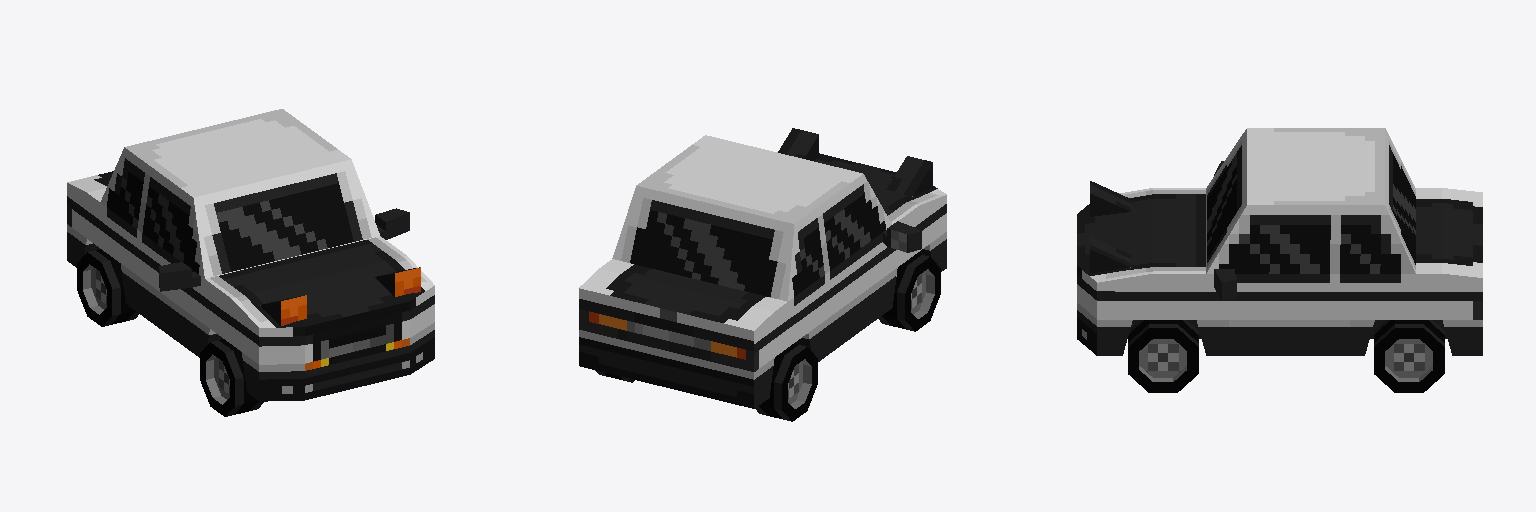
3 views of the same model, side by side, from view 1: azimuth 30°, elevation 25°; view 2: azimuth 150°, elevation 25°; view 3: azimuth 270°, elevation 25° (orthographic).
Parts seen in each view (by area): view 1: body, cylinder, mirror_right, headlight_left, headlight_right, mirror_left; view 2: body, cylinder, headlight_left, headlight_right, mirror_right; view 3: body, cylinder, headlight_right, headlight_left, mirror_left.
Boxes of the visible parts, x1=… form: body: x1=67, y1=109, x2=434, y2=401; cylinder: x1=77, y1=249, x2=263, y2=416; mirror_right: x1=159, y1=262, x2=200, y2=291; headlight_left: x1=260, y1=295, x2=306, y2=325; headlight_right: x1=375, y1=267, x2=420, y2=296; mirror_left: x1=375, y1=208, x2=409, y2=239; body: x1=579, y1=135, x2=946, y2=408; cylinder: x1=595, y1=254, x2=940, y2=421; headlight_left: x1=886, y1=156, x2=932, y2=196; headlight_right: x1=778, y1=128, x2=818, y2=160; mirror_right: x1=883, y1=221, x2=921, y2=252; body: x1=1077, y1=128, x2=1482, y2=355; cylinder: x1=1128, y1=320, x2=1444, y2=392; headlight_right: x1=1090, y1=236, x2=1130, y2=273; headlight_left: x1=1090, y1=181, x2=1132, y2=216; mirror_left: x1=1214, y1=269, x2=1236, y2=300.
Size of the model in its own units: 1.78 by 1.22 by 2.5.
1 materials, 1 textured.